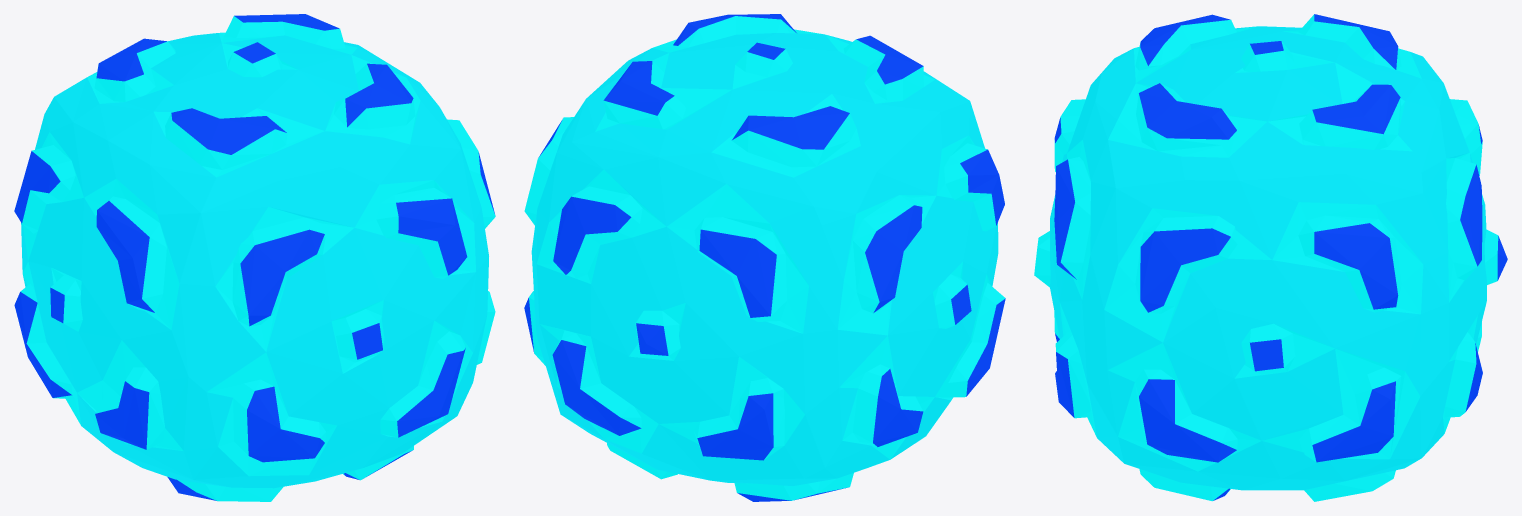
File: freezer_trap.glb
3 views of the same model, side by side, from view 1: azimuth 30°, elevation 25°; view 2: azimuth 150°, elevation 25°; view 3: azimuth 270°, elevation 25° (orthographic).
Parts seen in each view (by area): view 1: freezer_trap; view 2: freezer_trap; view 3: freezer_trap.
Part boxes in pixels (x1,y1,x2,y2): freezer_trap: (14, 14, 495, 501); freezer_trap: (524, 14, 1005, 501); freezer_trap: (1034, 14, 1507, 501).
Bounding box in the file's own units: 2.18 × 2.18 × 2.21.
